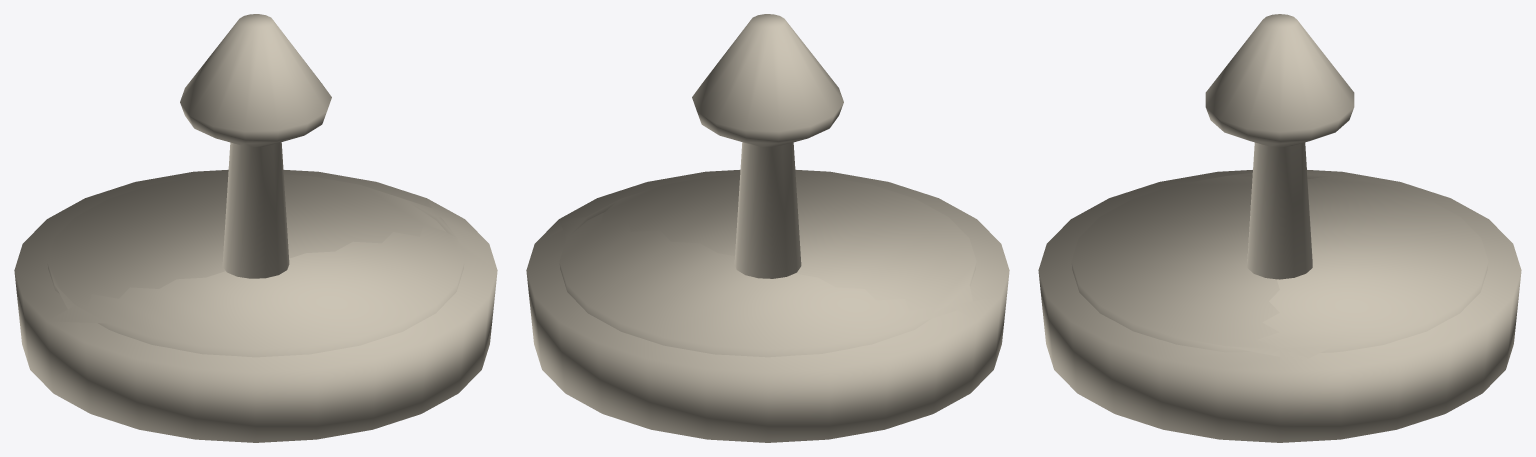
Rendered from prop_fountain.glb.
3 renders of one model, left to right at view 1: azimuth 30°, elevation 25°; view 2: azimuth 150°, elevation 25°; view 3: azimuth 270°, elevation 25°, orthographic.
Visible parts, largest first — view 1: basin, pillar; view 2: basin, pillar; view 3: basin, pillar.
Boxes of the visible parts, bbox=[...] form: basin: bbox=[14, 169, 497, 442]; pillar: bbox=[180, 14, 331, 278]; basin: bbox=[526, 169, 1009, 442]; pillar: bbox=[692, 14, 843, 278]; basin: bbox=[1038, 170, 1521, 442]; pillar: bbox=[1205, 14, 1354, 279].
Bounding box in the file's own units: 1.9 × 1.4 × 1.9.
